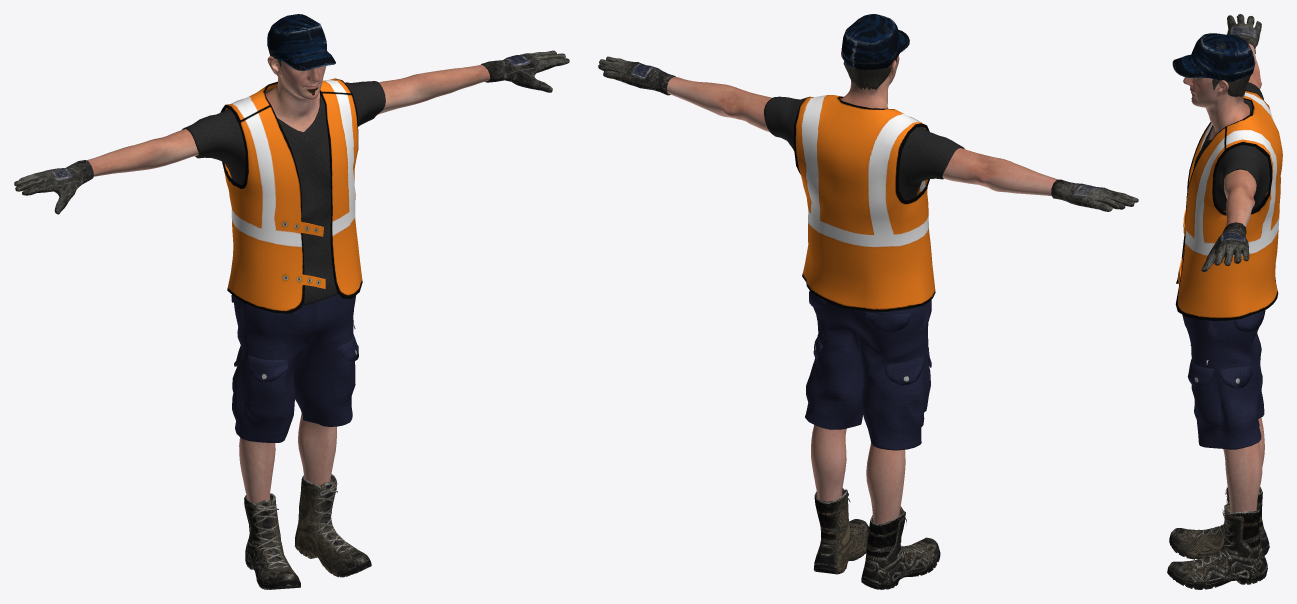
Rendered from model_MaleRunway03D-export-png.fbx.
The picture shows the model from 3 angles, left to right: view 1: azimuth 30°, elevation 25°; view 2: azimuth 150°, elevation 25°; view 3: azimuth 270°, elevation 25°; orthographic projection. The views are drawn at different scales.
Parts seen in each view (by area): view 1: Vest_3CDE, Bottoms, Body, Tops, Shoes, Gloves, Hat_3BDE; view 2: Vest_3CDE, Bottoms, Body, Shoes, Tops, Gloves, Hat_3BDE, Hair_3BDE; view 3: Vest_3CDE, Bottoms, Shoes, Body, Hat_3BDE, Tops, Gloves, Hair_3BDE.
Boxes of the visible parts, x1=… form: Vest_3CDE: x1=220, y1=78, x2=362, y2=313; Bottoms: x1=231, y1=294, x2=358, y2=442; Body: x1=87, y1=56, x2=490, y2=503; Tops: x1=182, y1=81, x2=385, y2=305; Shoes: x1=244, y1=474, x2=371, y2=589; Gloves: x1=14, y1=50, x2=569, y2=214; Hat_3BDE: x1=267, y1=14, x2=335, y2=70; Vest_3CDE: x1=794, y1=95, x2=935, y2=311; Bottoms: x1=805, y1=290, x2=931, y2=450; Body: x1=665, y1=51, x2=1062, y2=523; Shoes: x1=813, y1=488, x2=940, y2=589; Tops: x1=764, y1=96, x2=964, y2=200; Gloves: x1=598, y1=56, x2=1138, y2=211; Hat_3BDE: x1=841, y1=14, x2=909, y2=70; Hair_3BDE: x1=843, y1=58, x2=896, y2=90; Vest_3CDE: x1=1175, y1=90, x2=1282, y2=320; Bottoms: x1=1182, y1=310, x2=1265, y2=449; Shoes: x1=1167, y1=487, x2=1269, y2=589; Body: x1=1183, y1=40, x2=1264, y2=512; Hat_3BDE: x1=1172, y1=33, x2=1255, y2=82; Tops: x1=1179, y1=82, x2=1269, y2=284; Gloves: x1=1201, y1=14, x2=1261, y2=271; Hair_3BDE: x1=1212, y1=75, x2=1250, y2=97.
Size of the model in its own units: 1.92 by 1.86 by 0.3678.
